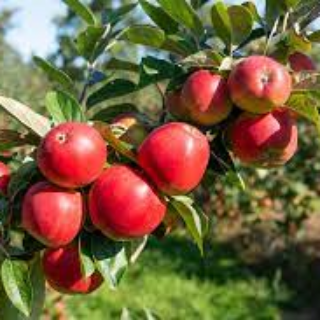tao: (86, 161, 170, 246), (134, 119, 214, 199), (37, 120, 109, 189), (21, 181, 86, 249)
